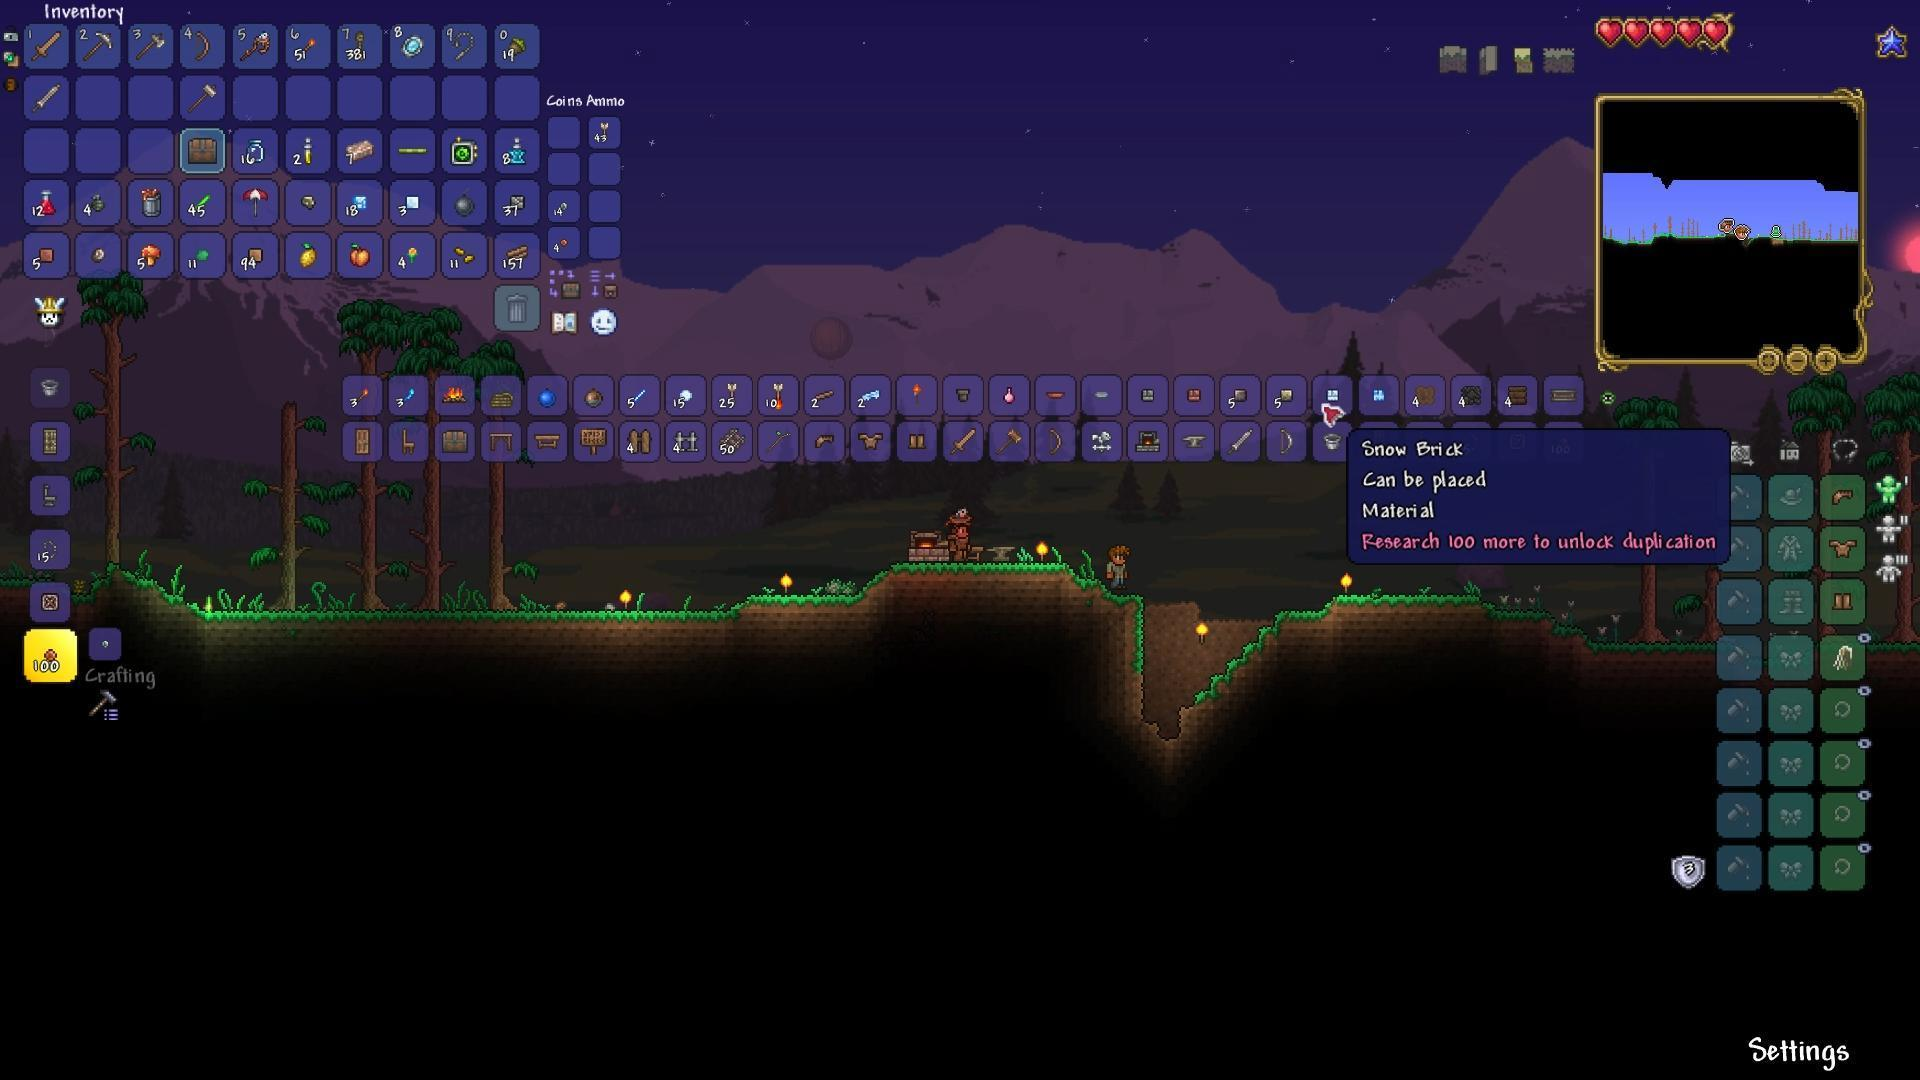anvil: (985, 537, 1019, 567)
bar: (343, 135, 373, 166)
furnace: (905, 524, 953, 567)
grenade: (88, 193, 109, 214)
potion: (37, 187, 62, 218)
